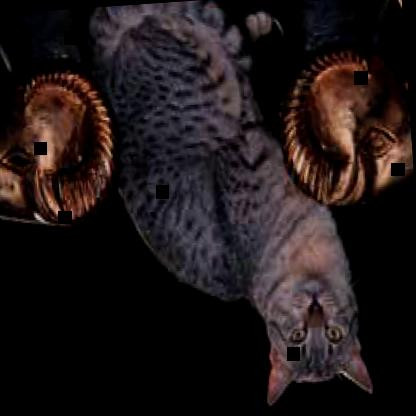cat: (84, 0, 374, 415)
